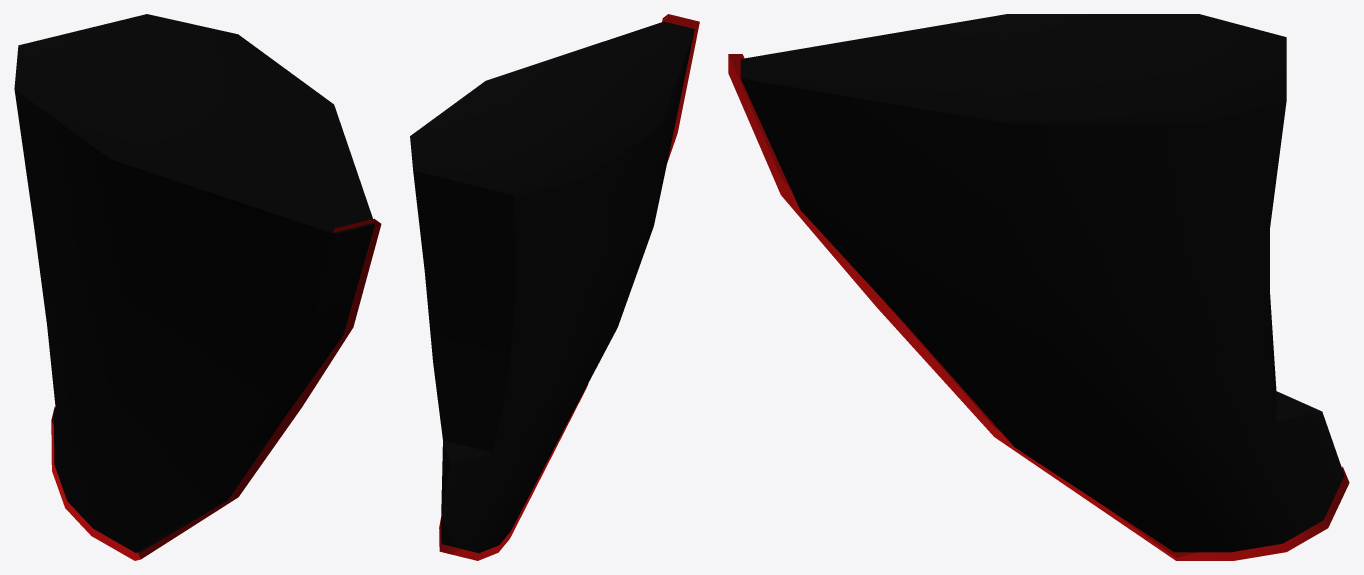
File: curved_keel.glb
3 renders of one model, left to right at view 1: azimuth 30°, elevation 25°; view 2: azimuth 150°, elevation 25°; view 3: azimuth 270°, elevation 25°, orthographic. The views are drawn at different scales.
Parts seen in each view (by area): view 1: Cube, Cube.001; view 2: Cube, Cube.001; view 3: Cube, Cube.001.
Boxes of the visible parts, bbox=[...] form: Cube: bbox=[14, 14, 374, 552]; Cube.001: bbox=[51, 218, 381, 560]; Cube: bbox=[410, 21, 694, 553]; Cube.001: bbox=[439, 14, 699, 560]; Cube: bbox=[740, 14, 1344, 552]; Cube.001: bbox=[728, 54, 1349, 560].
Size of the model in its own units: 4.19 by 8.86 by 10.06.
